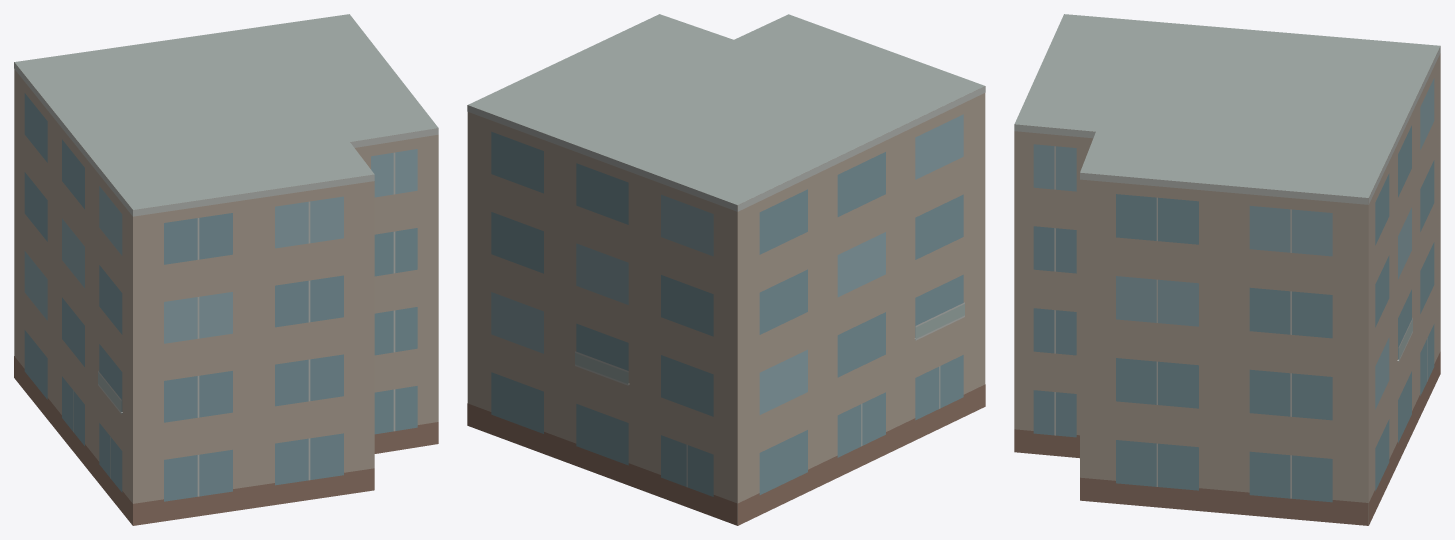
Rendered from survey-upis-32928339.glb.
3 renders of one model, left to right at view 1: azimuth 30°, elevation 25°; view 2: azimuth 150°, elevation 25°; view 3: azimuth 270°, elevation 25°, orthographic. The views are drawn at different scales.
Visible parts, largest first — view 1: survey-upis-32928339.tmp; view 2: survey-upis-32928339.tmp; view 3: survey-upis-32928339.tmp.
Part boxes in pixels (x1=…): survey-upis-32928339.tmp: x1=14, y1=14, x2=438, y2=525; survey-upis-32928339.tmp: x1=467, y1=14, x2=985, y2=525; survey-upis-32928339.tmp: x1=1014, y1=14, x2=1440, y2=525.
Size of the model in its own units: 14.1 by 11.7 by 13.8.
